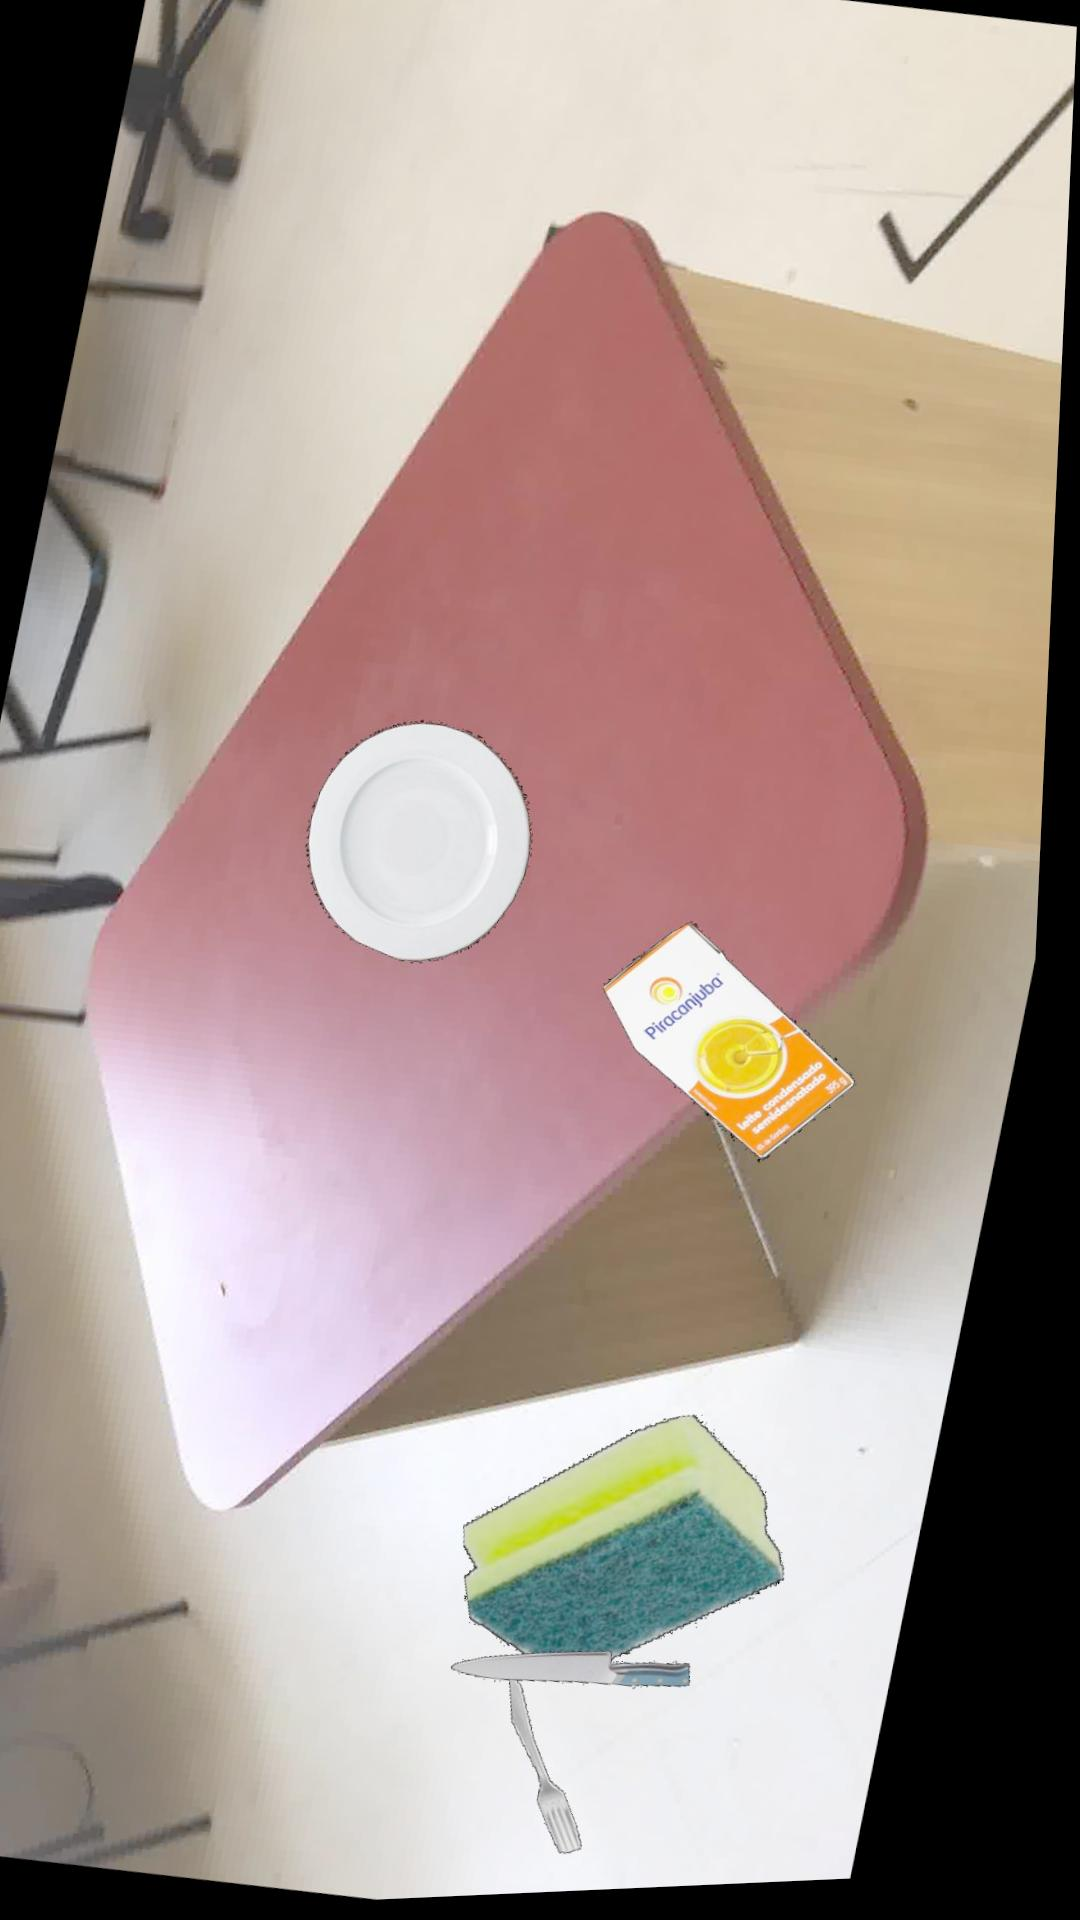fork: (526, 1683, 600, 1857)
knife: (467, 1654, 707, 1692)
plate: (315, 721, 541, 964)
sponge: (479, 1419, 799, 1664)
